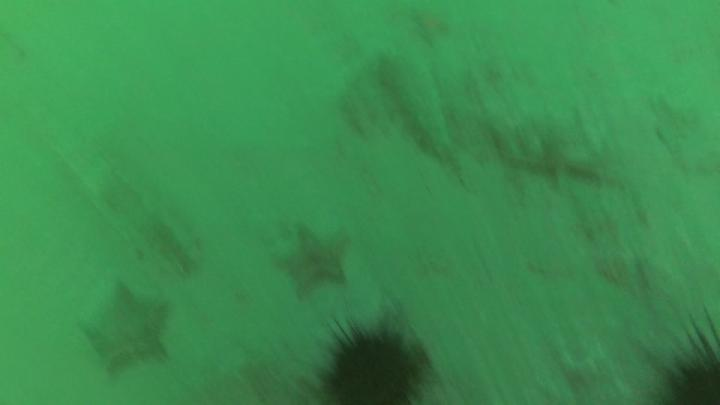echinus: (330, 331, 417, 405)
starfish: (75, 280, 169, 374), (273, 227, 350, 295)
